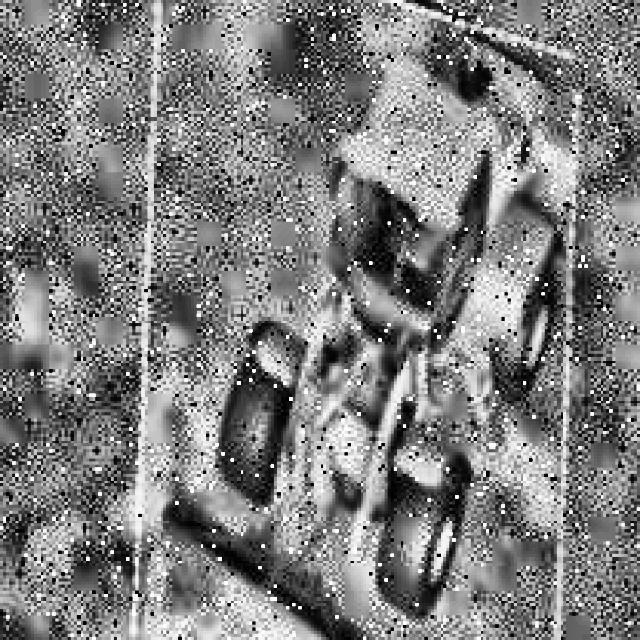buldozerpayloadergrader: (138, 15, 588, 640)
